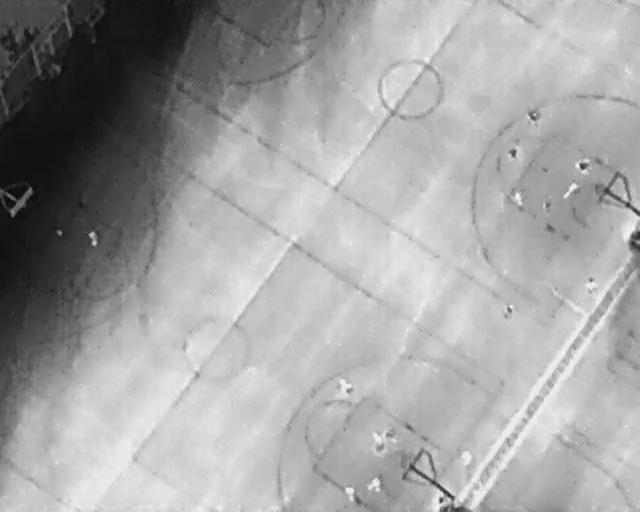Person: (560, 179, 581, 201), (499, 301, 518, 322), (369, 431, 385, 454), (574, 157, 593, 176), (336, 378, 354, 397), (510, 190, 525, 212), (584, 276, 598, 296), (384, 427, 399, 445), (367, 475, 382, 493), (343, 485, 356, 505), (87, 229, 99, 249), (460, 449, 473, 467), (526, 109, 541, 123), (506, 145, 519, 159), (540, 200, 553, 212)
